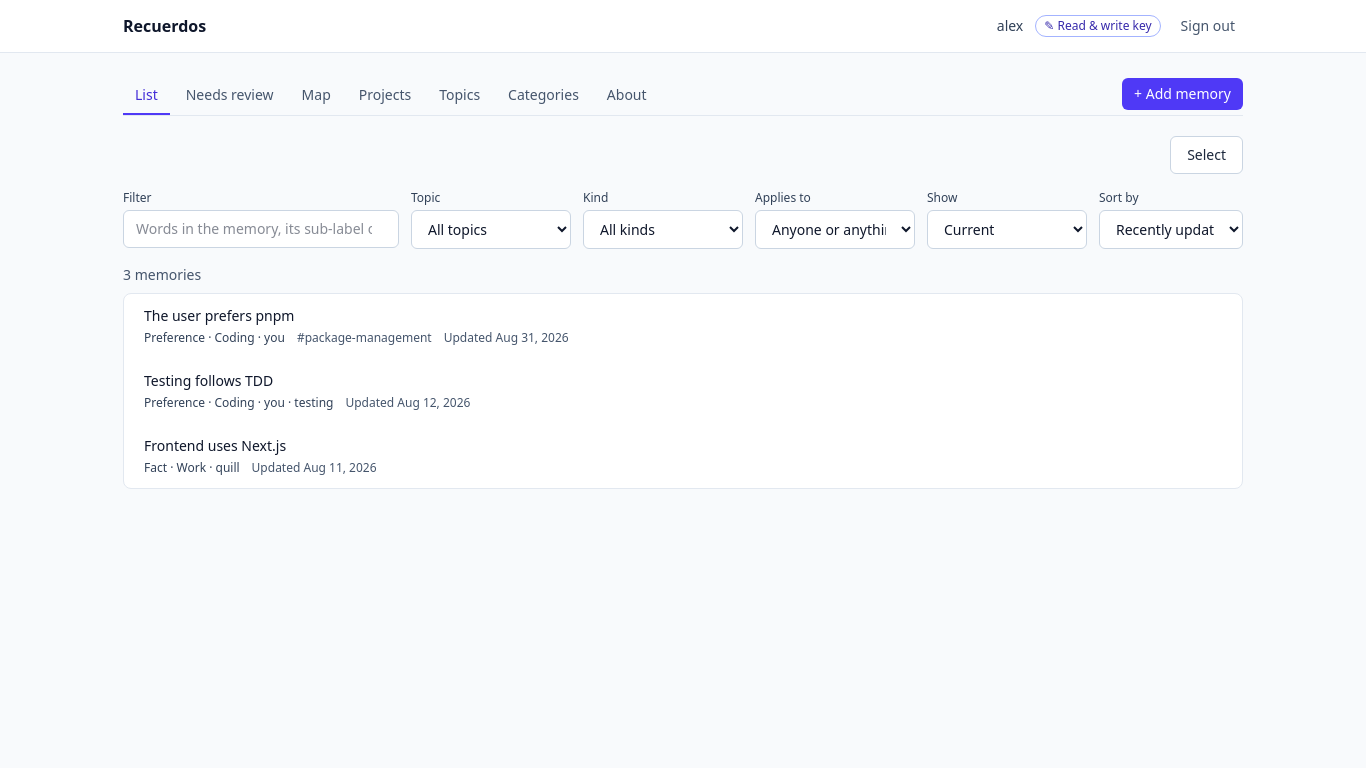
Test: editing a memory › moves a memory to a project
Expected: the text "The user prefers pnpm" is shown, left=144, top=306, right=294, bottom=325
Click the button "Testing follows TDD" at {"x": 209, "y": 380}, box left=128, top=359, right=1242, bottom=423
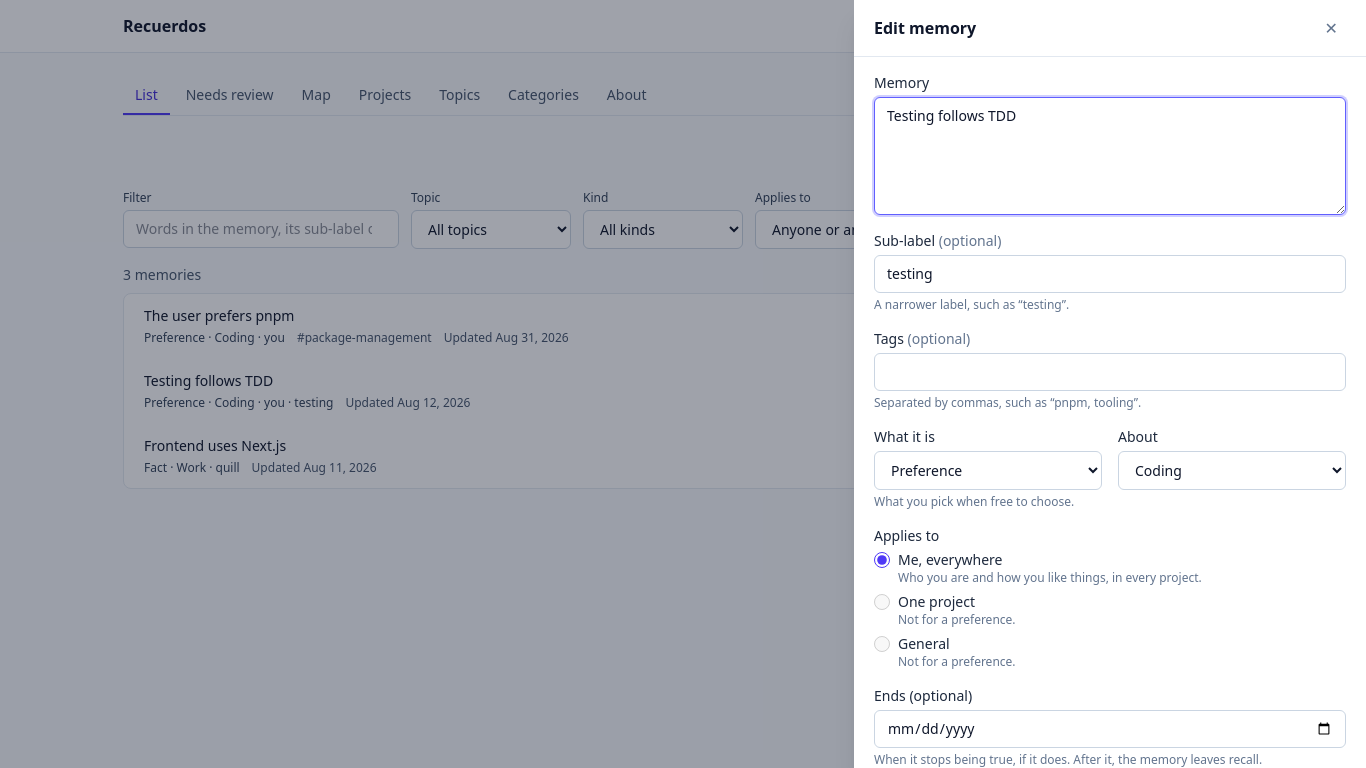
Select "Convention" in the dropdown labelled "What it is" at {"x": 988, "y": 470}, box left=874, top=451, right=1102, bottom=490
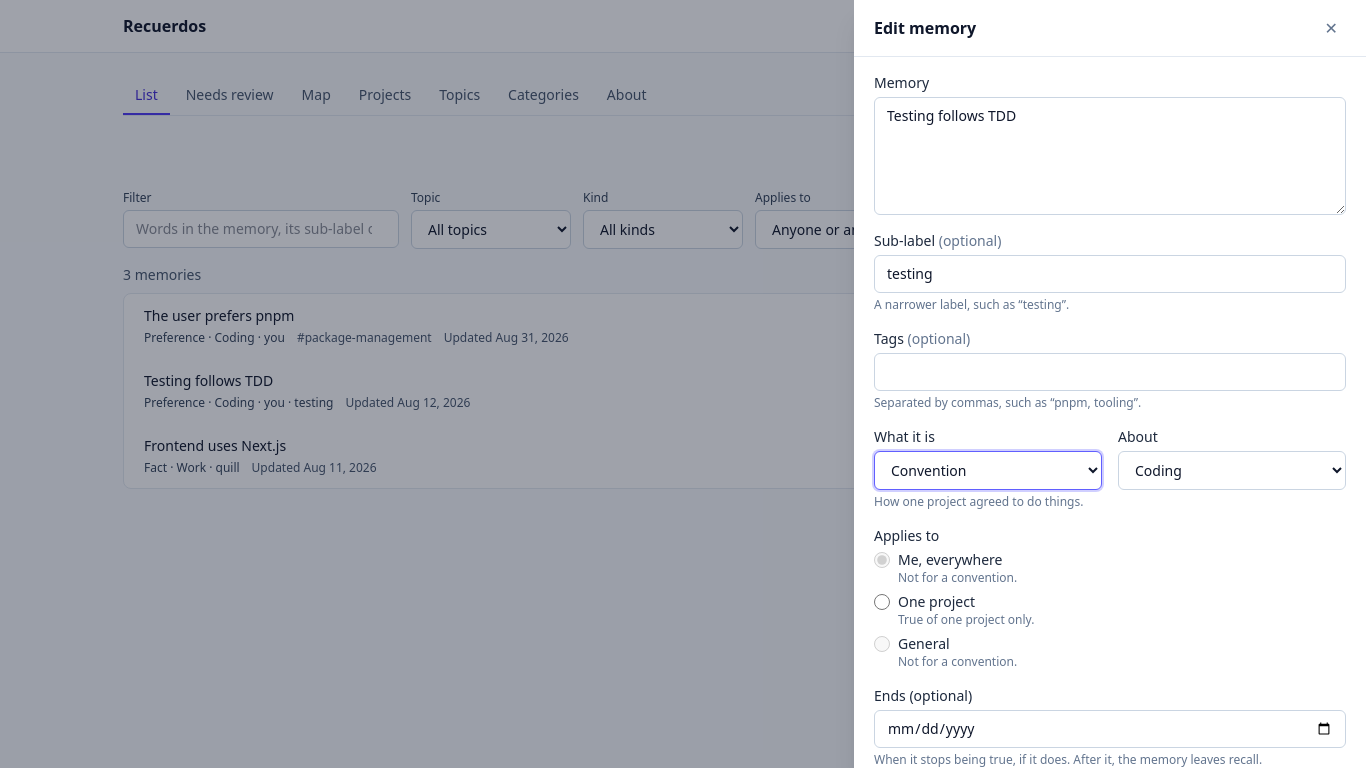
Click the radio button labelled "One project True of one project only." at {"x": 882, "y": 602}, box left=874, top=594, right=890, bottom=610
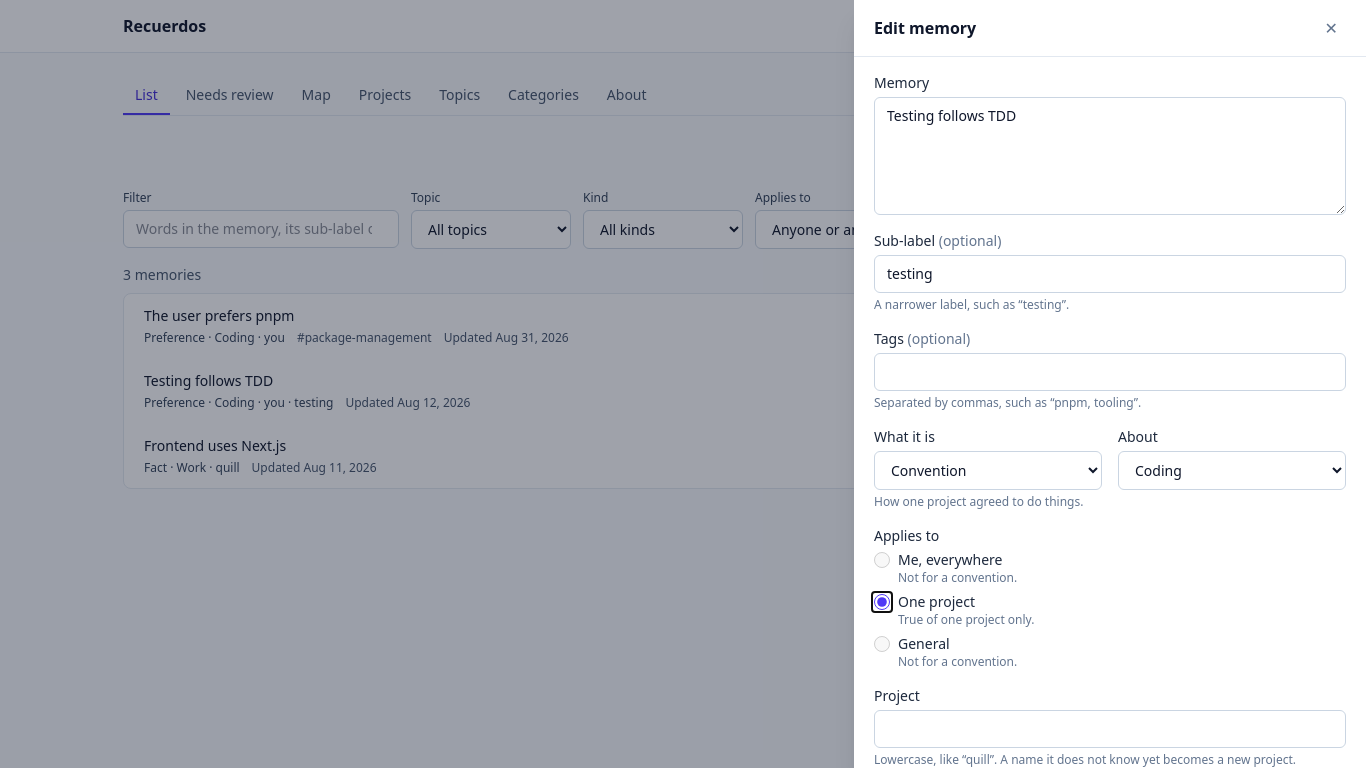
Type "quill" into the field labelled "Project" at {"x": 1110, "y": 729}, box left=874, top=710, right=1346, bottom=748
(page scrolled)
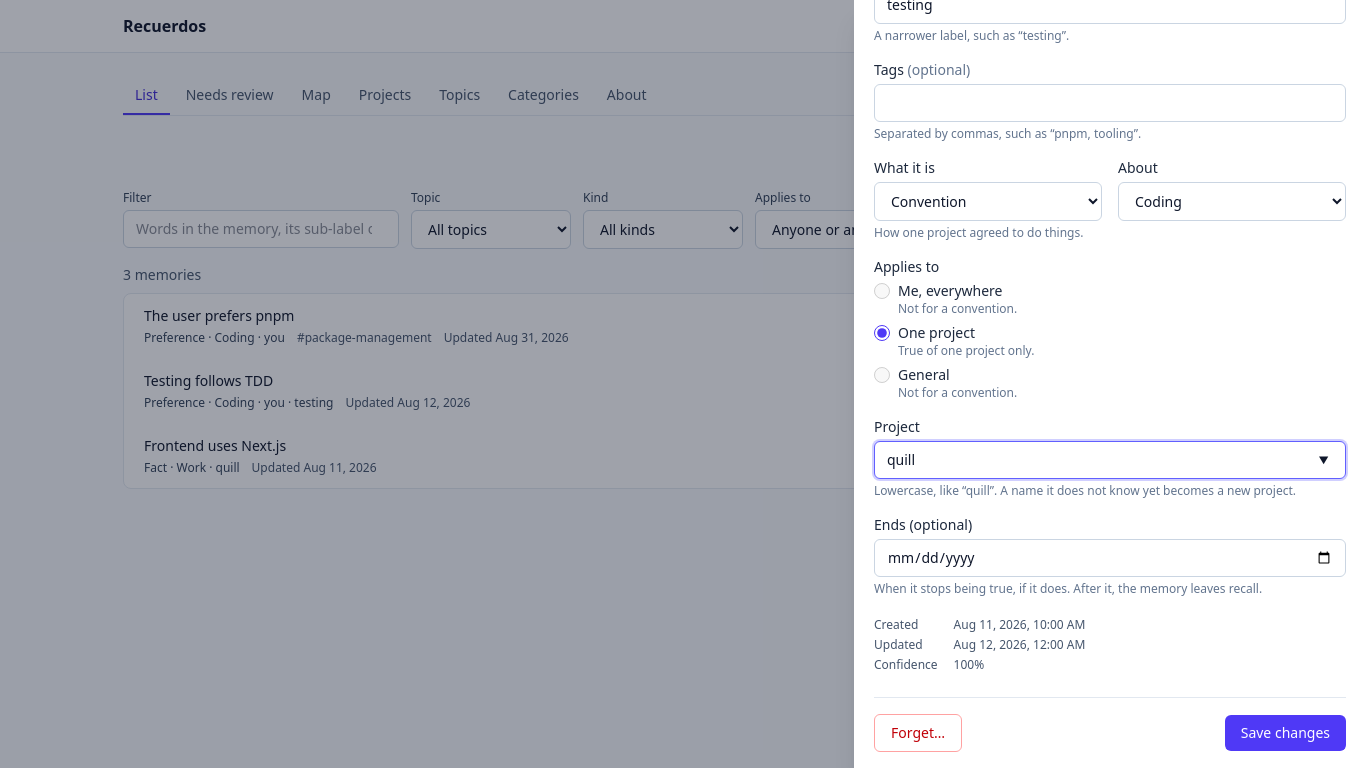
Click the button "Save changes" at {"x": 1285, "y": 733}, box left=1225, top=715, right=1346, bottom=751
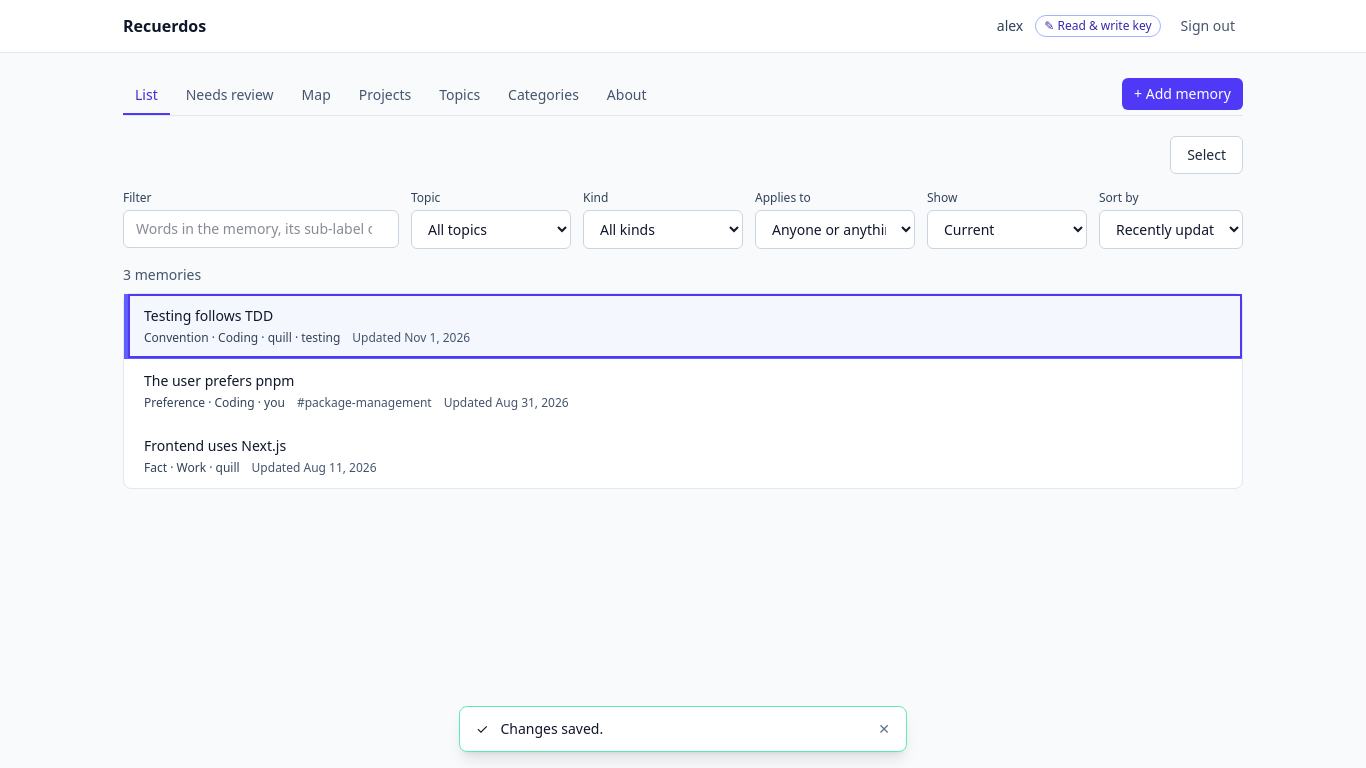
Expected: the text "Changes saved." is shown, left=500, top=719, right=603, bottom=738
